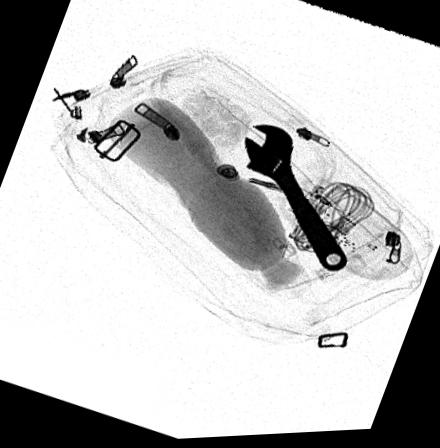Wrench: (243, 125, 348, 275)
